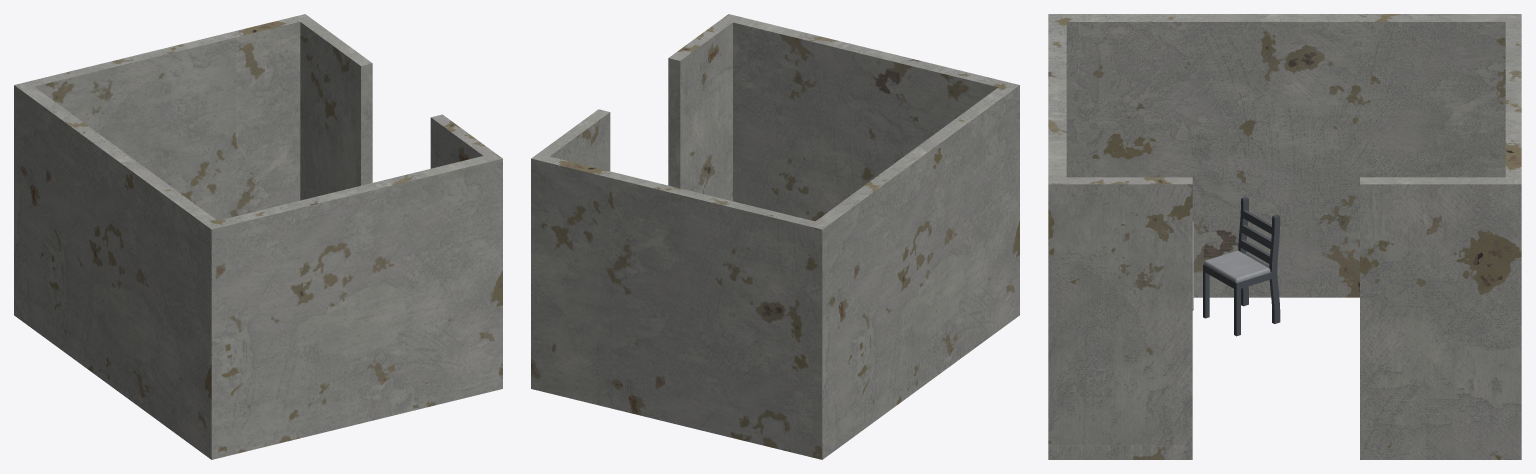
The model's file is YENI╠çODA.fbx.
3 renders of one model, left to right at view 1: azimuth 30°, elevation 25°; view 2: azimuth 150°, elevation 25°; view 3: azimuth 270°, elevation 25°, orthographic. The views are drawn at different scales.
Visible parts, largest first — view 1: aaaekleme; view 2: aaaekleme; view 3: aaaekleme, Sand3, Yastık3.
Part boxes in pixels (x1,y1,x2,y2): aaaekleme: [14, 14, 502, 459]; aaaekleme: [531, 14, 1019, 459]; aaaekleme: [1048, 14, 1521, 459]; Sand3: [1203, 196, 1280, 336]; Yastık3: [1204, 250, 1270, 282].
Bounding box in the file's own units: 1219 × 929 × 1432.
